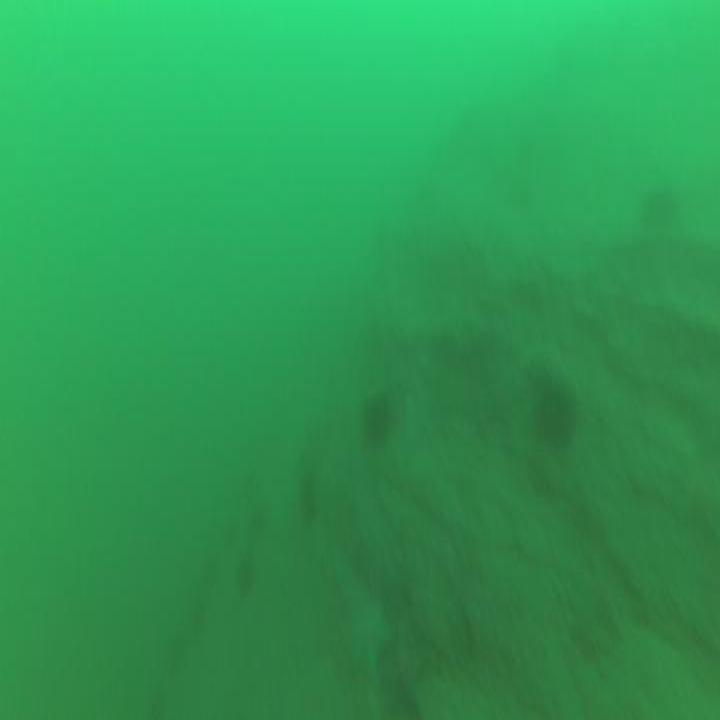echinus: (527, 362, 580, 458), (357, 386, 396, 455)
